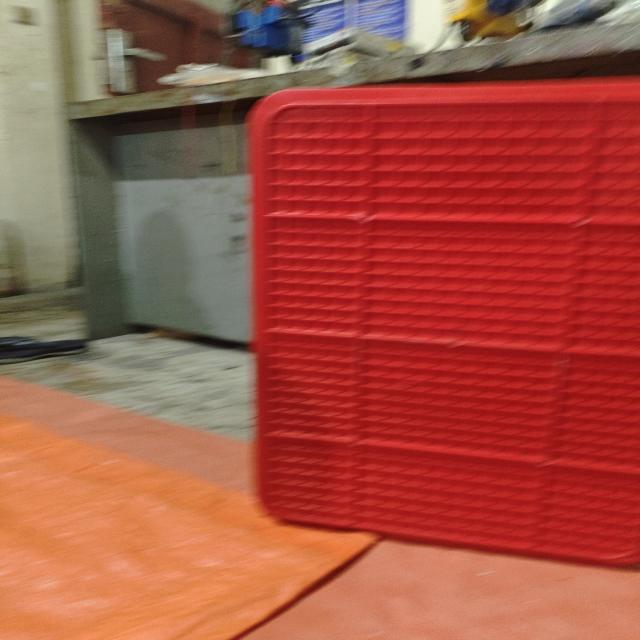red plastic box: (246, 76, 640, 567)
